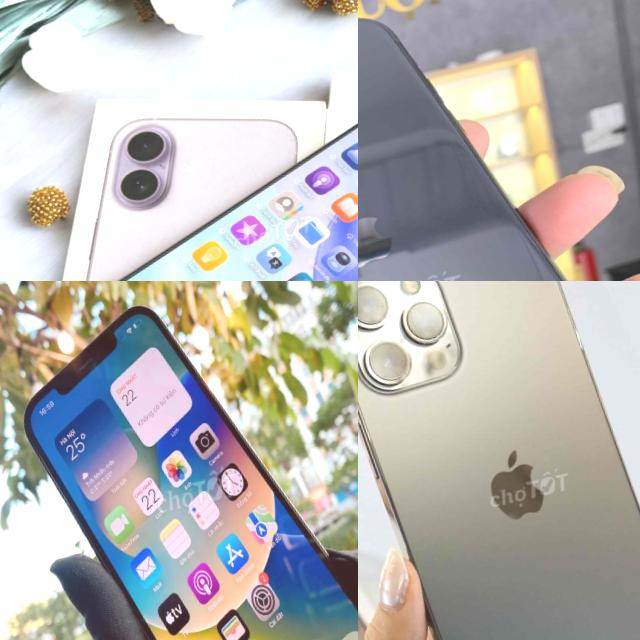gen_11: (358, 19, 564, 281)
gen_12_13: (2, 281, 358, 640), (358, 281, 640, 640)
gen_17: (309, 280, 310, 281)
